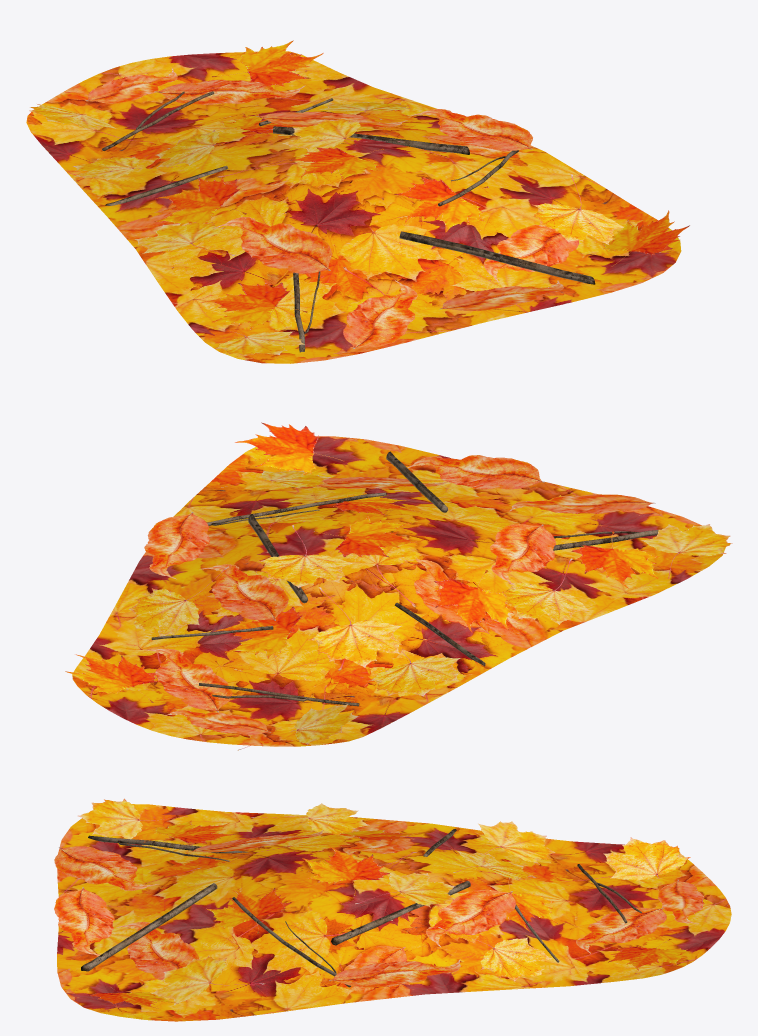
File: Carreta_hojas_lvl2.fbx
The picture shows the model from 3 angles, top to bottom: view 1: azimuth 30°, elevation 25°; view 2: azimuth 150°, elevation 25°; view 3: azimuth 270°, elevation 25°; orthographic projection. The views are drawn at different scales.
Visible parts, largest first — view 1: Lvl2, leaf3.009, leaf3.010, leaf3.011, leaf3.007, leaf3.008, leaf1.005, leaf2.013, leaf2.012, leaf2.008, leaf2.011, leaf2.009 (+17 smaller); view 2: Lvl2, leaf3.013, leaf3.014, leaf3.008, leaf1.006, leaf3.011, leaf3.009, leaf2.009, leaf1.007, leaf1.008, leaf1.009, leaf2.012 (+16 smaller); view 3: Lvl2, leaf3.014, leaf3.013, leaf3.010, leaf3.007, leaf4.004, leaf3.011, leaf3.008, leaf1.007, leaf1.005, leaf4.003, leaf1.008 (+17 smaller).
Part boxes in pixels (left/top/right/bottom): Lvl2: left=26, top=51, right=681, bottom=363; leaf3.009: left=214, top=217, right=332, bottom=273; leaf3.010: left=343, top=280, right=417, bottom=348; leaf3.011: left=410, top=109, right=532, bottom=150; leaf3.007: left=484, top=224, right=578, bottom=282; leaf3.008: left=154, top=79, right=305, bottom=104; leaf1.005: left=532, top=174, right=623, bottom=244; leaf2.013: left=394, top=177, right=488, bottom=232; leaf2.012: left=154, top=177, right=246, bottom=225; leaf2.008: left=200, top=282, right=307, bottom=330; leaf2.011: left=212, top=40, right=323, bottom=86; leaf2.009: left=602, top=210, right=689, bottom=267; Lvl2: left=72, top=436, right=725, bottom=746; leaf3.013: left=407, top=455, right=544, bottom=489; leaf3.014: left=199, top=564, right=288, bottom=620; leaf3.008: left=143, top=648, right=232, bottom=712; leaf1.006: left=308, top=587, right=402, bottom=667; leaf3.011: left=144, top=512, right=209, bottom=579; leaf3.009: left=490, top=524, right=555, bottom=586; leaf2.009: left=235, top=422, right=344, bottom=474; leaf1.007: left=128, top=566, right=228, bottom=636; leaf1.008: left=368, top=649, right=460, bottom=696; leaf1.009: left=501, top=558, right=589, bottom=624; leaf2.012: left=433, top=570, right=513, bottom=632; Lvl2: left=57, top=804, right=731, bottom=1021; leaf3.014: left=426, top=889, right=515, bottom=947; leaf3.013: left=54, top=887, right=114, bottom=955; leaf3.010: left=54, top=846, right=158, bottom=890; leaf3.007: left=116, top=921, right=199, bottom=979; leaf4.004: left=603, top=837, right=690, bottom=880; leaf3.011: left=329, top=959, right=460, bottom=987; leaf3.008: left=576, top=907, right=666, bottom=953; leaf1.007: left=438, top=927, right=552, bottom=981; leaf1.005: left=151, top=956, right=265, bottom=1005; leaf4.003: left=78, top=798, right=187, bottom=839; leaf1.008: left=478, top=821, right=555, bottom=864.
Bounding box in the file's own units: 70.71 × 9.41 × 88.04.
